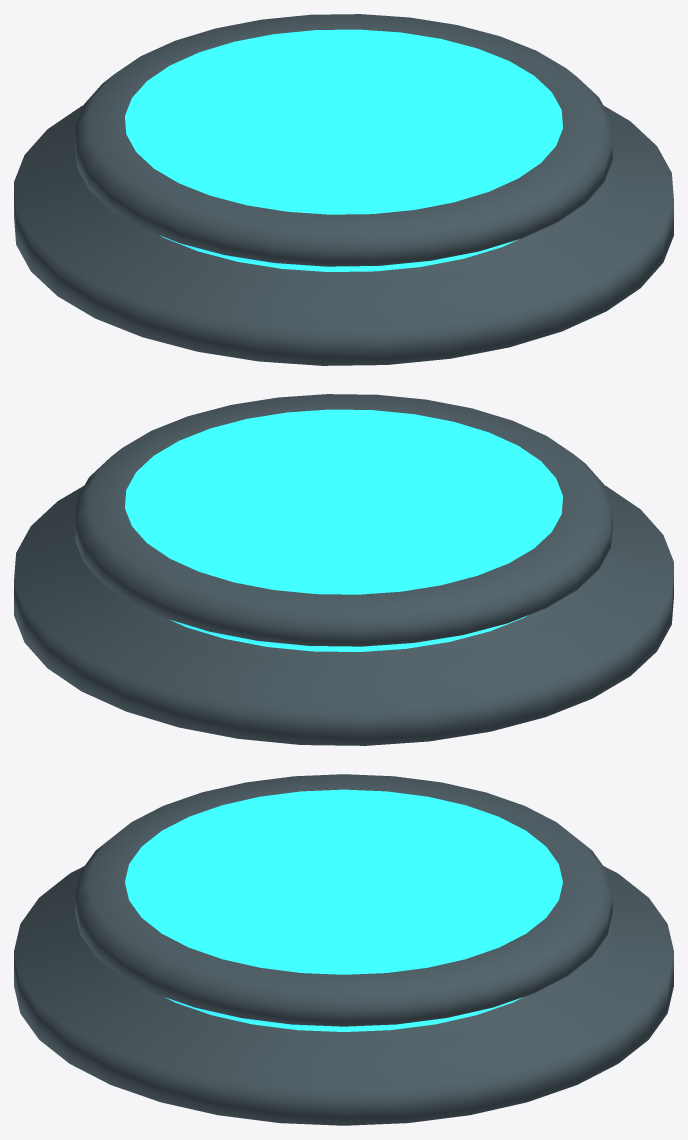
File: Deselected2.glb
3 renders of one model, top to bottom at view 1: azimuth 30°, elevation 25°; view 2: azimuth 150°, elevation 25°; view 3: azimuth 270°, elevation 25°, orthographic.
Visible parts, largest first — view 1: DeSelected 2; view 2: DeSelected 2; view 3: DeSelected 2.
Part boxes in pixels (box(x1,y1,x2,y2)): DeSelected 2: box(14, 14, 673, 365); DeSelected 2: box(14, 394, 673, 745); DeSelected 2: box(14, 774, 673, 1125).
Size of the model in its own units: 0.0986 by 0.0172 by 0.0986.
Materials: 2 (1 with a texture image).
